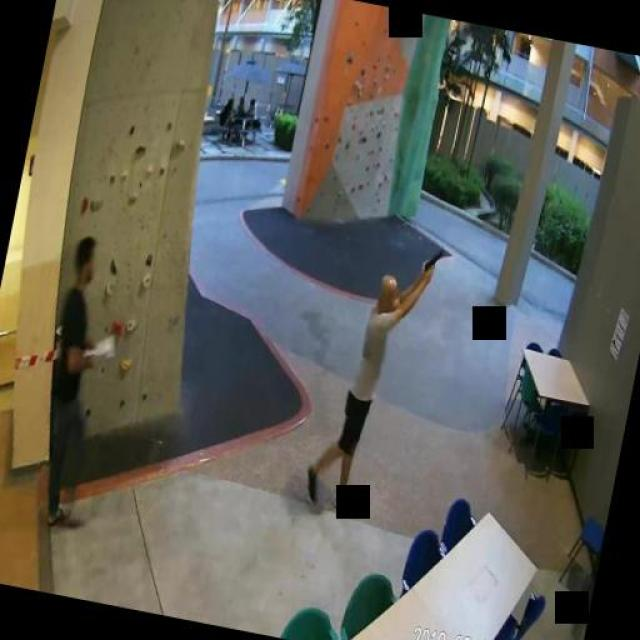gun: (422, 245, 442, 283)
